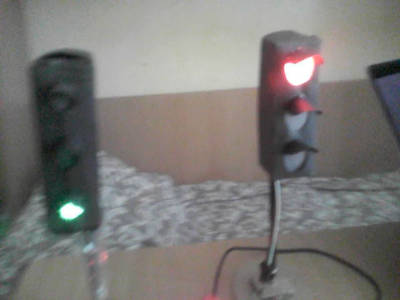trafficlight_green: (39, 58, 97, 230)
trafficlight_red: (274, 41, 324, 180)
